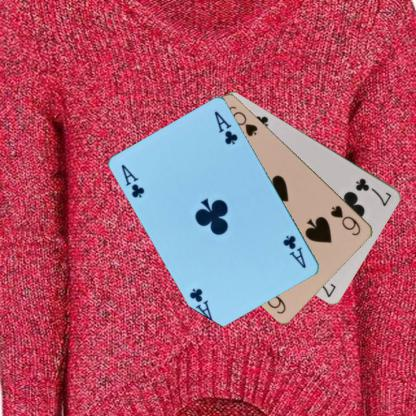6s: (328, 203, 364, 237)
7c: (353, 175, 393, 207)
Ac: (280, 233, 308, 270), (119, 162, 146, 199)
